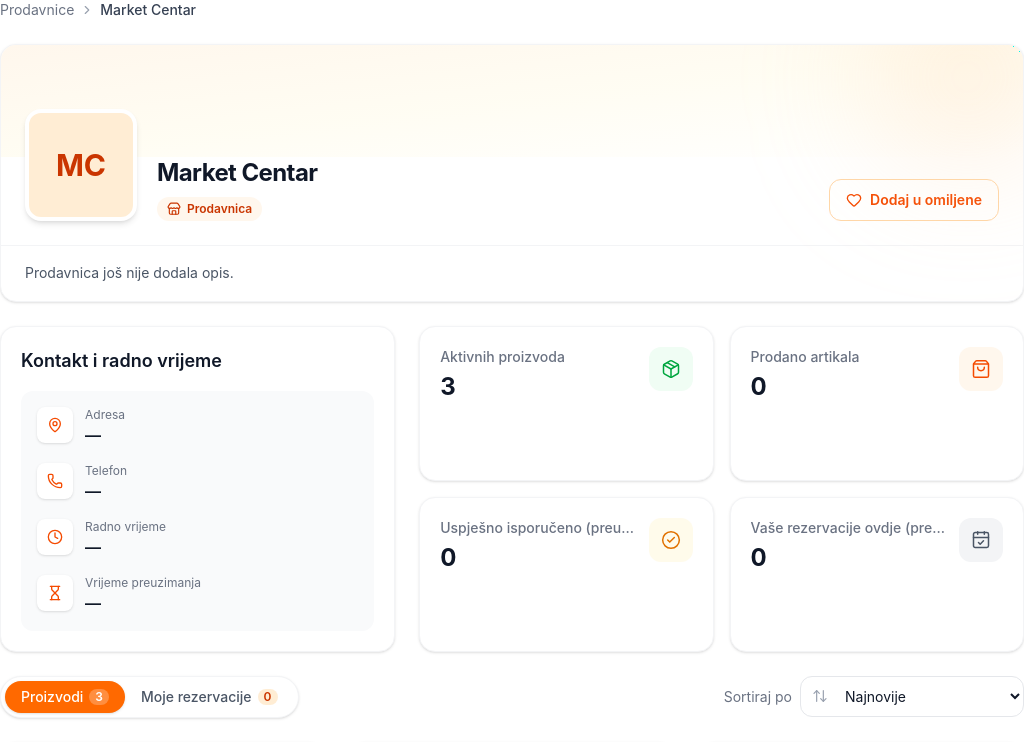
it: StoreDetailsPage offers sort › shows no sort on the reservations tab
Click the button "Moje rezervacije 0" at (209, 697), box [125, 681, 294, 713]
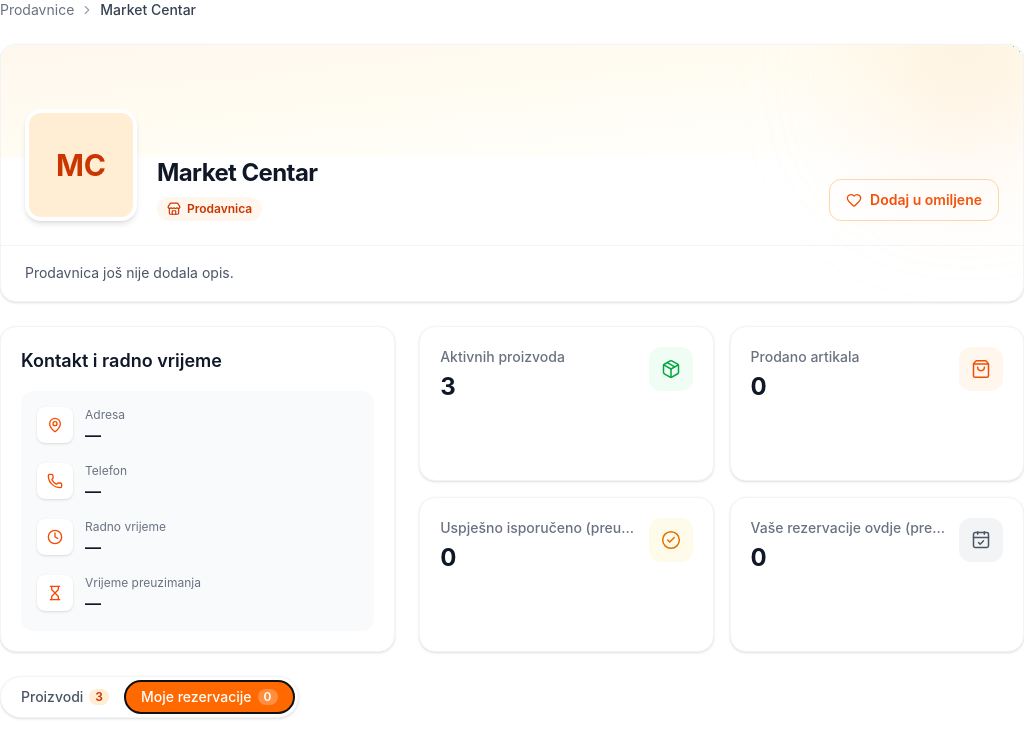
Expected: the text labelled "Sortiraj po" is gone
